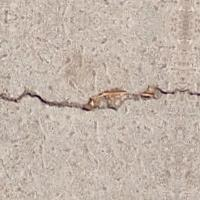crack: (0, 58, 199, 138)
